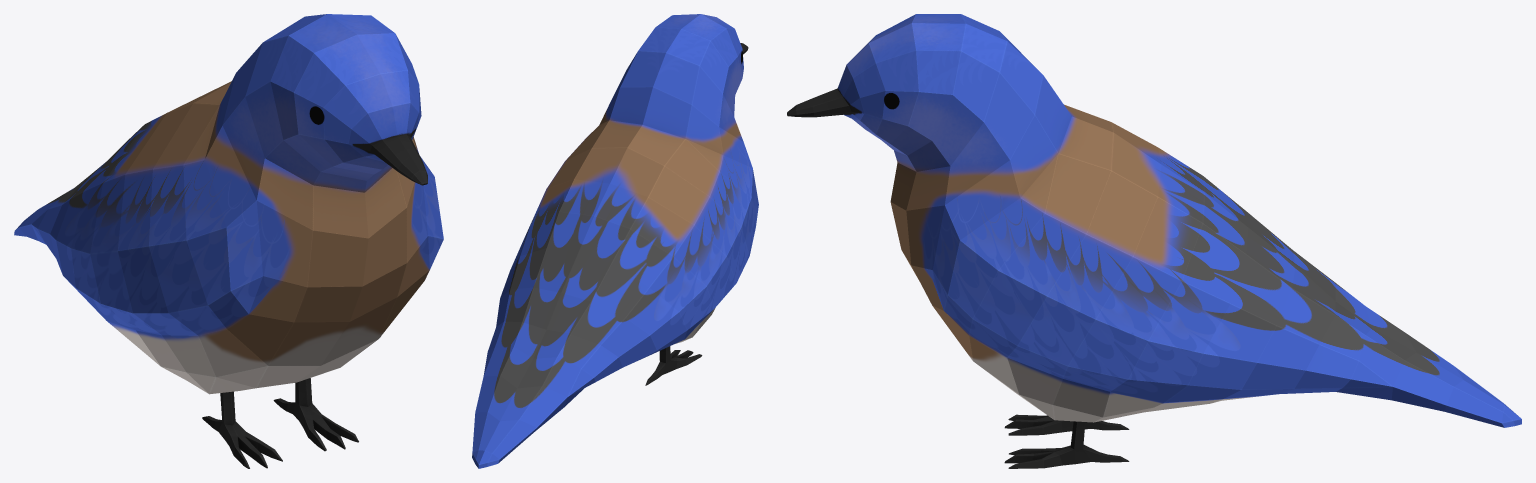
The model's file is Western bluebird.glb.
The picture shows the model from 3 angles, left to right: view 1: azimuth 30°, elevation 25°; view 2: azimuth 150°, elevation 25°; view 3: azimuth 270°, elevation 25°; orthographic projection. The views are drawn at different scales.
Visible parts, largest first — view 1: WesternBluebird; view 2: WesternBluebird; view 3: WesternBluebird.
Part boxes in pixels (bbox=[...]): WesternBluebird: bbox=[14, 14, 443, 468]; WesternBluebird: bbox=[472, 14, 758, 468]; WesternBluebird: bbox=[787, 14, 1521, 468].
Size of the model in its own units: 0.0985 by 0.1563 by 0.2463.
1 material, 1 textured.
